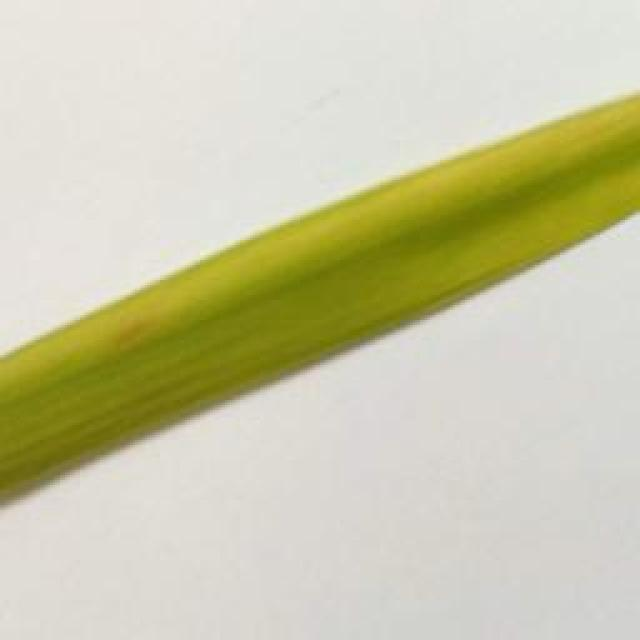Brown_Spot: (109, 301, 160, 357)
